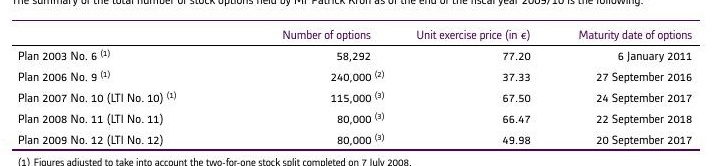table: (0, 0, 715, 166)
